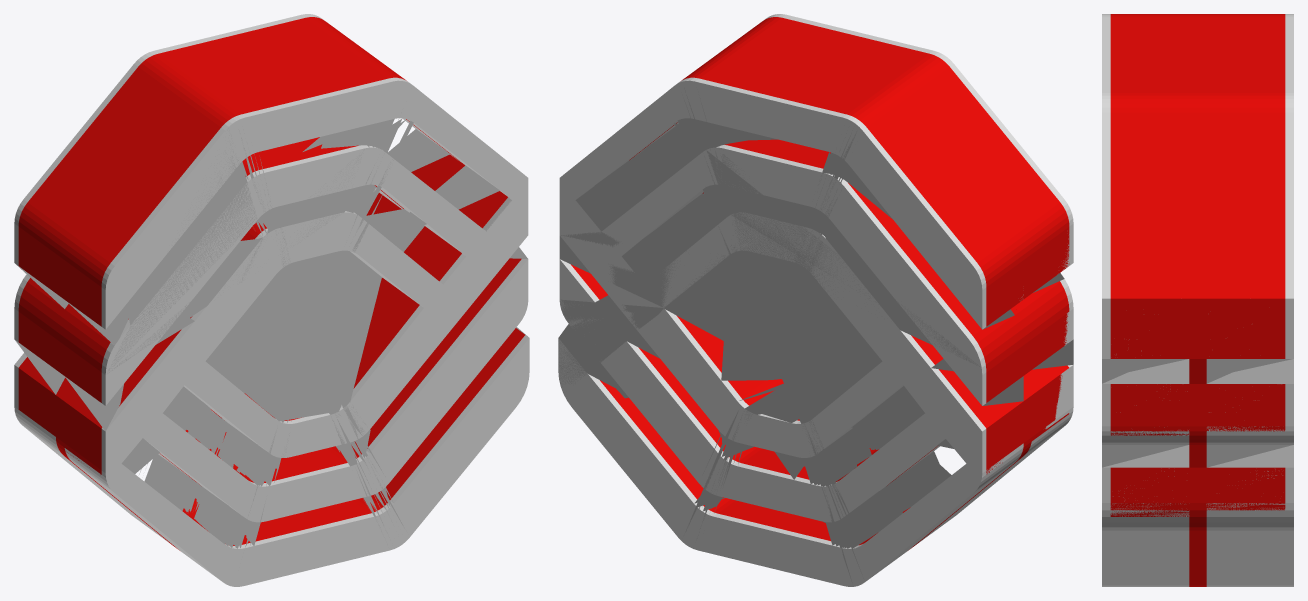
File: Bok_Briefcase_Rigged.glb
The picture shows the model from 3 angles, left to right: view 1: azimuth 30°, elevation 25°; view 2: azimuth 150°, elevation 25°; view 3: azimuth 270°, elevation 25°; orthographic projection. The views are drawn at different scales.
Parts seen in each view (by area): view 1: Bok_logo_Left, BOK_Logo_BOK_Logo.001, Bok_Logo_Right; view 2: Bok_Logo_Right, BOK_Logo_BOK_Logo.001, Bok_logo_Left; view 3: BOK_Logo_BOK_Logo.001, Bok_Logo_Right, Bok_logo_Left.
Part boxes in pixels (left/top/right/bottom): Bok_logo_Left: left=64, top=77, right=529, bottom=586; BOK_Logo_BOK_Logo.001: left=18, top=17, right=524, bottom=550; Bok_Logo_Right: left=14, top=14, right=458, bottom=543; Bok_Logo_Right: left=558, top=77, right=1023, bottom=586; BOK_Logo_BOK_Logo.001: left=571, top=17, right=1069, bottom=550; Bok_logo_Left: left=630, top=14, right=1073, bottom=543; BOK_Logo_BOK_Logo.001: left=1110, top=14, right=1285, bottom=586; Bok_Logo_Right: left=1206, top=14, right=1293, bottom=586; Bok_logo_Left: left=1102, top=14, right=1189, bottom=586.
Bounding box in the file's own units: 2.95 × 3.11 × 1.1.
